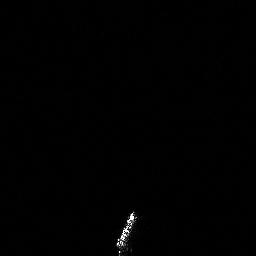ship: (114, 208, 140, 256)
